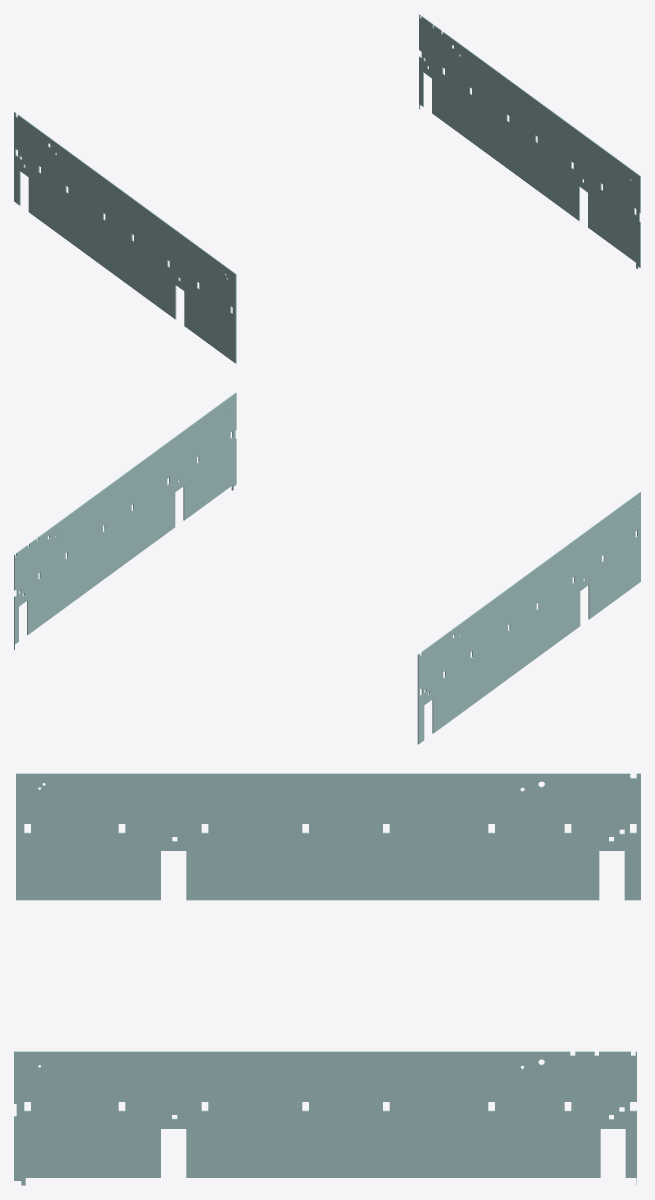
The model's file is detail-cleanroomwalls-4-3f.glb.
3 views of the same model, one above another, from view 1: azimuth 30°, elevation 25°; view 2: azimuth 150°, elevation 25°; view 3: azimuth 270°, elevation 25° (orthographic). The views are drawn at different scales.
Size of the model in its own units: 26.15 by 5.85 by 24.88.
